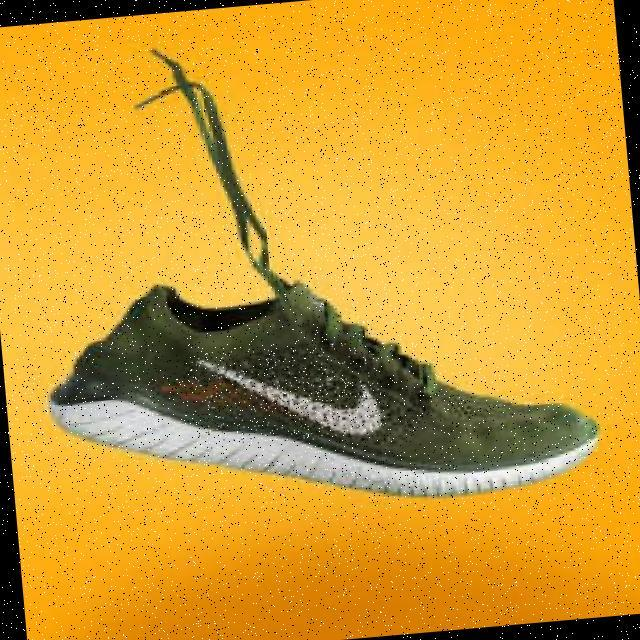Nike: (190, 337, 386, 450)
